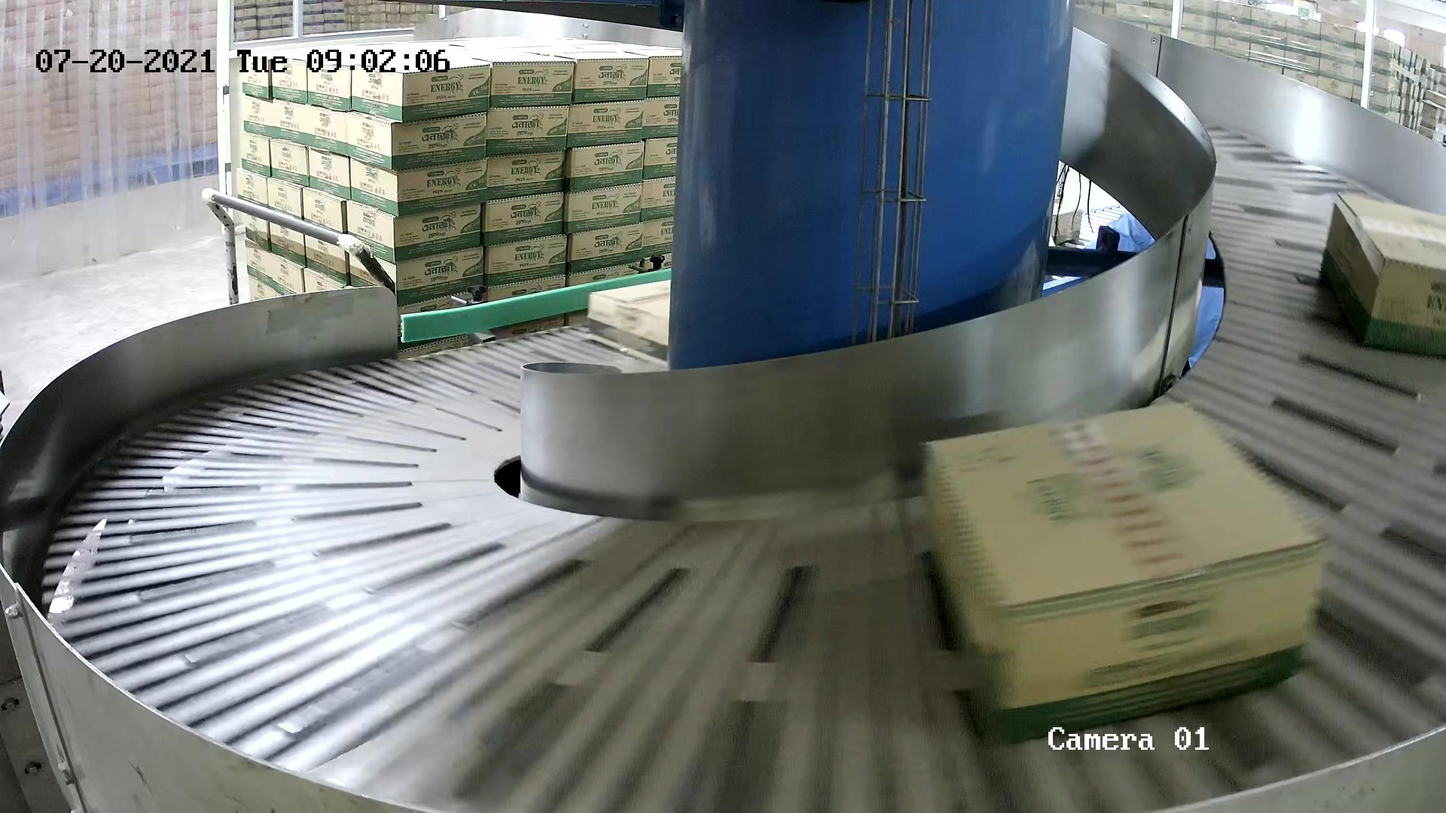Box: (919, 398, 1332, 747), (1319, 191, 1446, 357), (584, 279, 671, 367)
